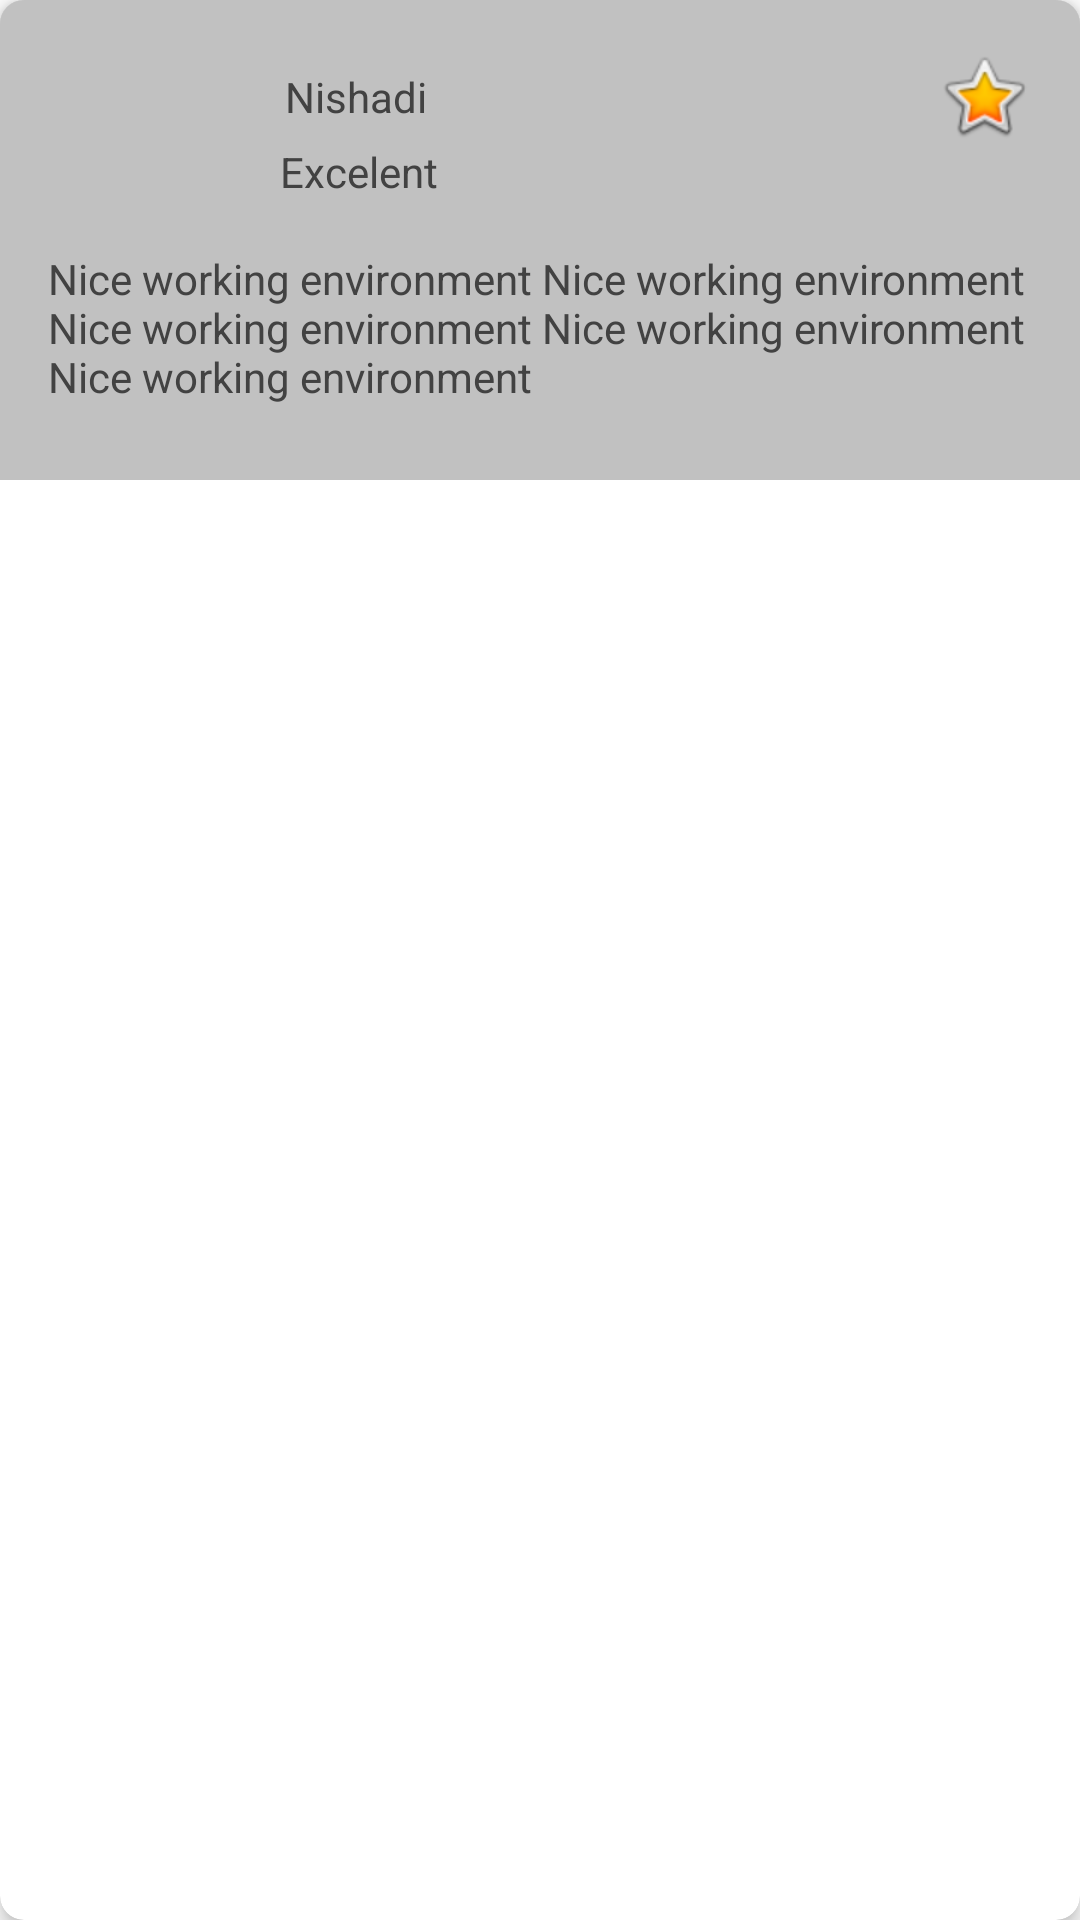

Icon bounding boxes for this 1080 x 1920 phone screenshot, format detection(x1, y1, x2, y2):
star on: detection(945, 58, 1025, 136)
